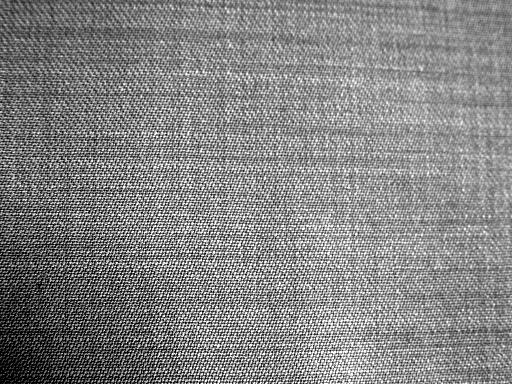fabric_hole: (189, 190, 504, 353)
